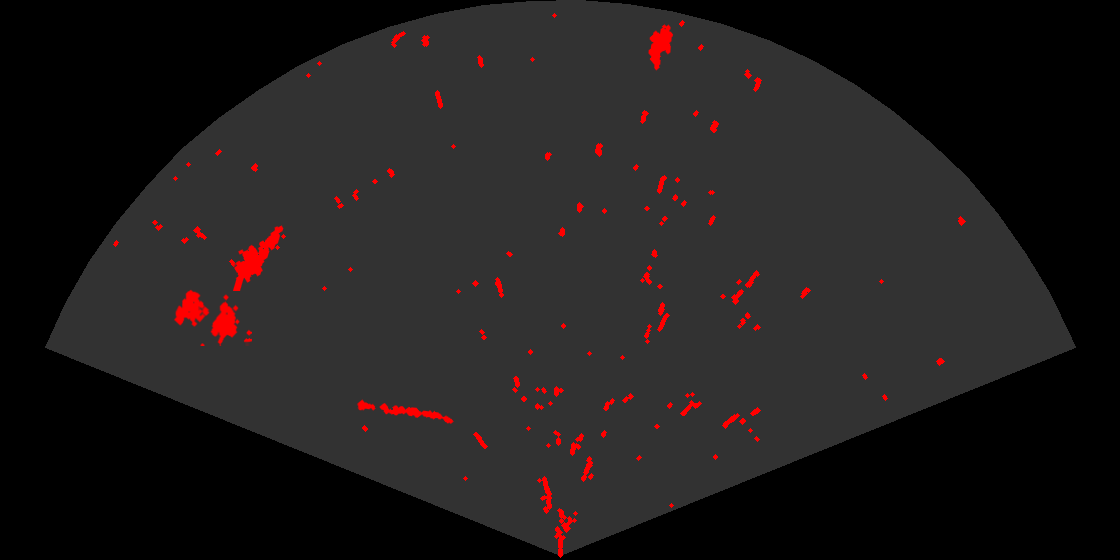AUV: (647, 23, 675, 72)
cage: (172, 288, 252, 346)
chain: (355, 398, 455, 425)
frogman: (231, 224, 285, 291)
